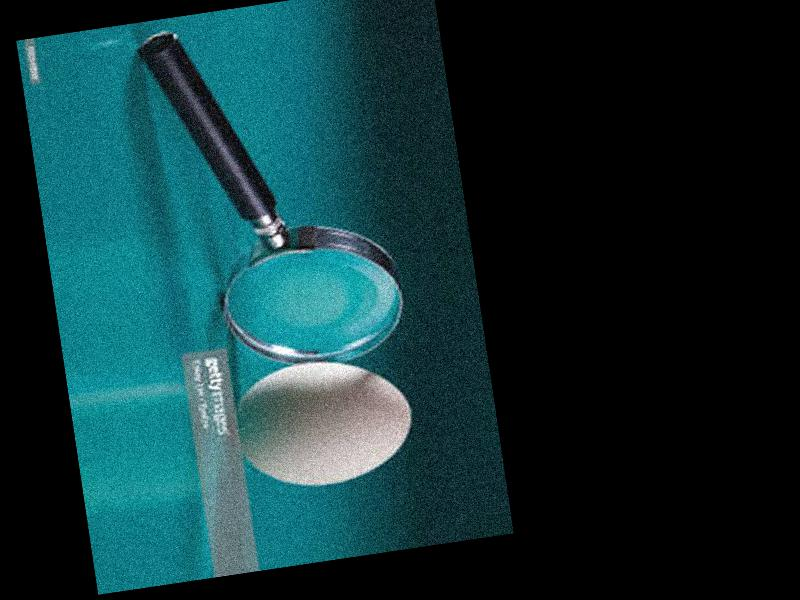Eggs: (227, 348, 420, 497)
